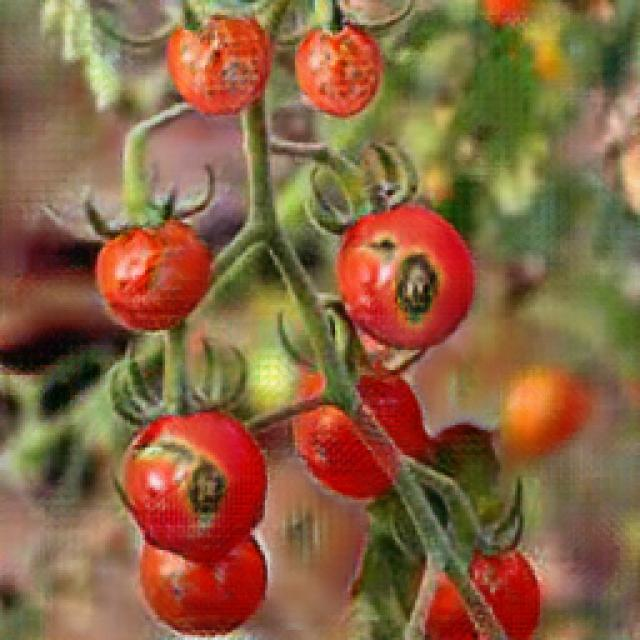overripe tomato: (336, 205, 472, 352), (126, 409, 272, 544), (91, 225, 216, 338), (160, 19, 274, 115), (295, 27, 383, 119)
